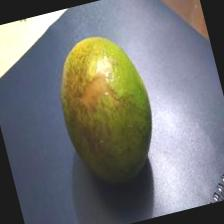Orange Rotten: (38, 13, 188, 215)
